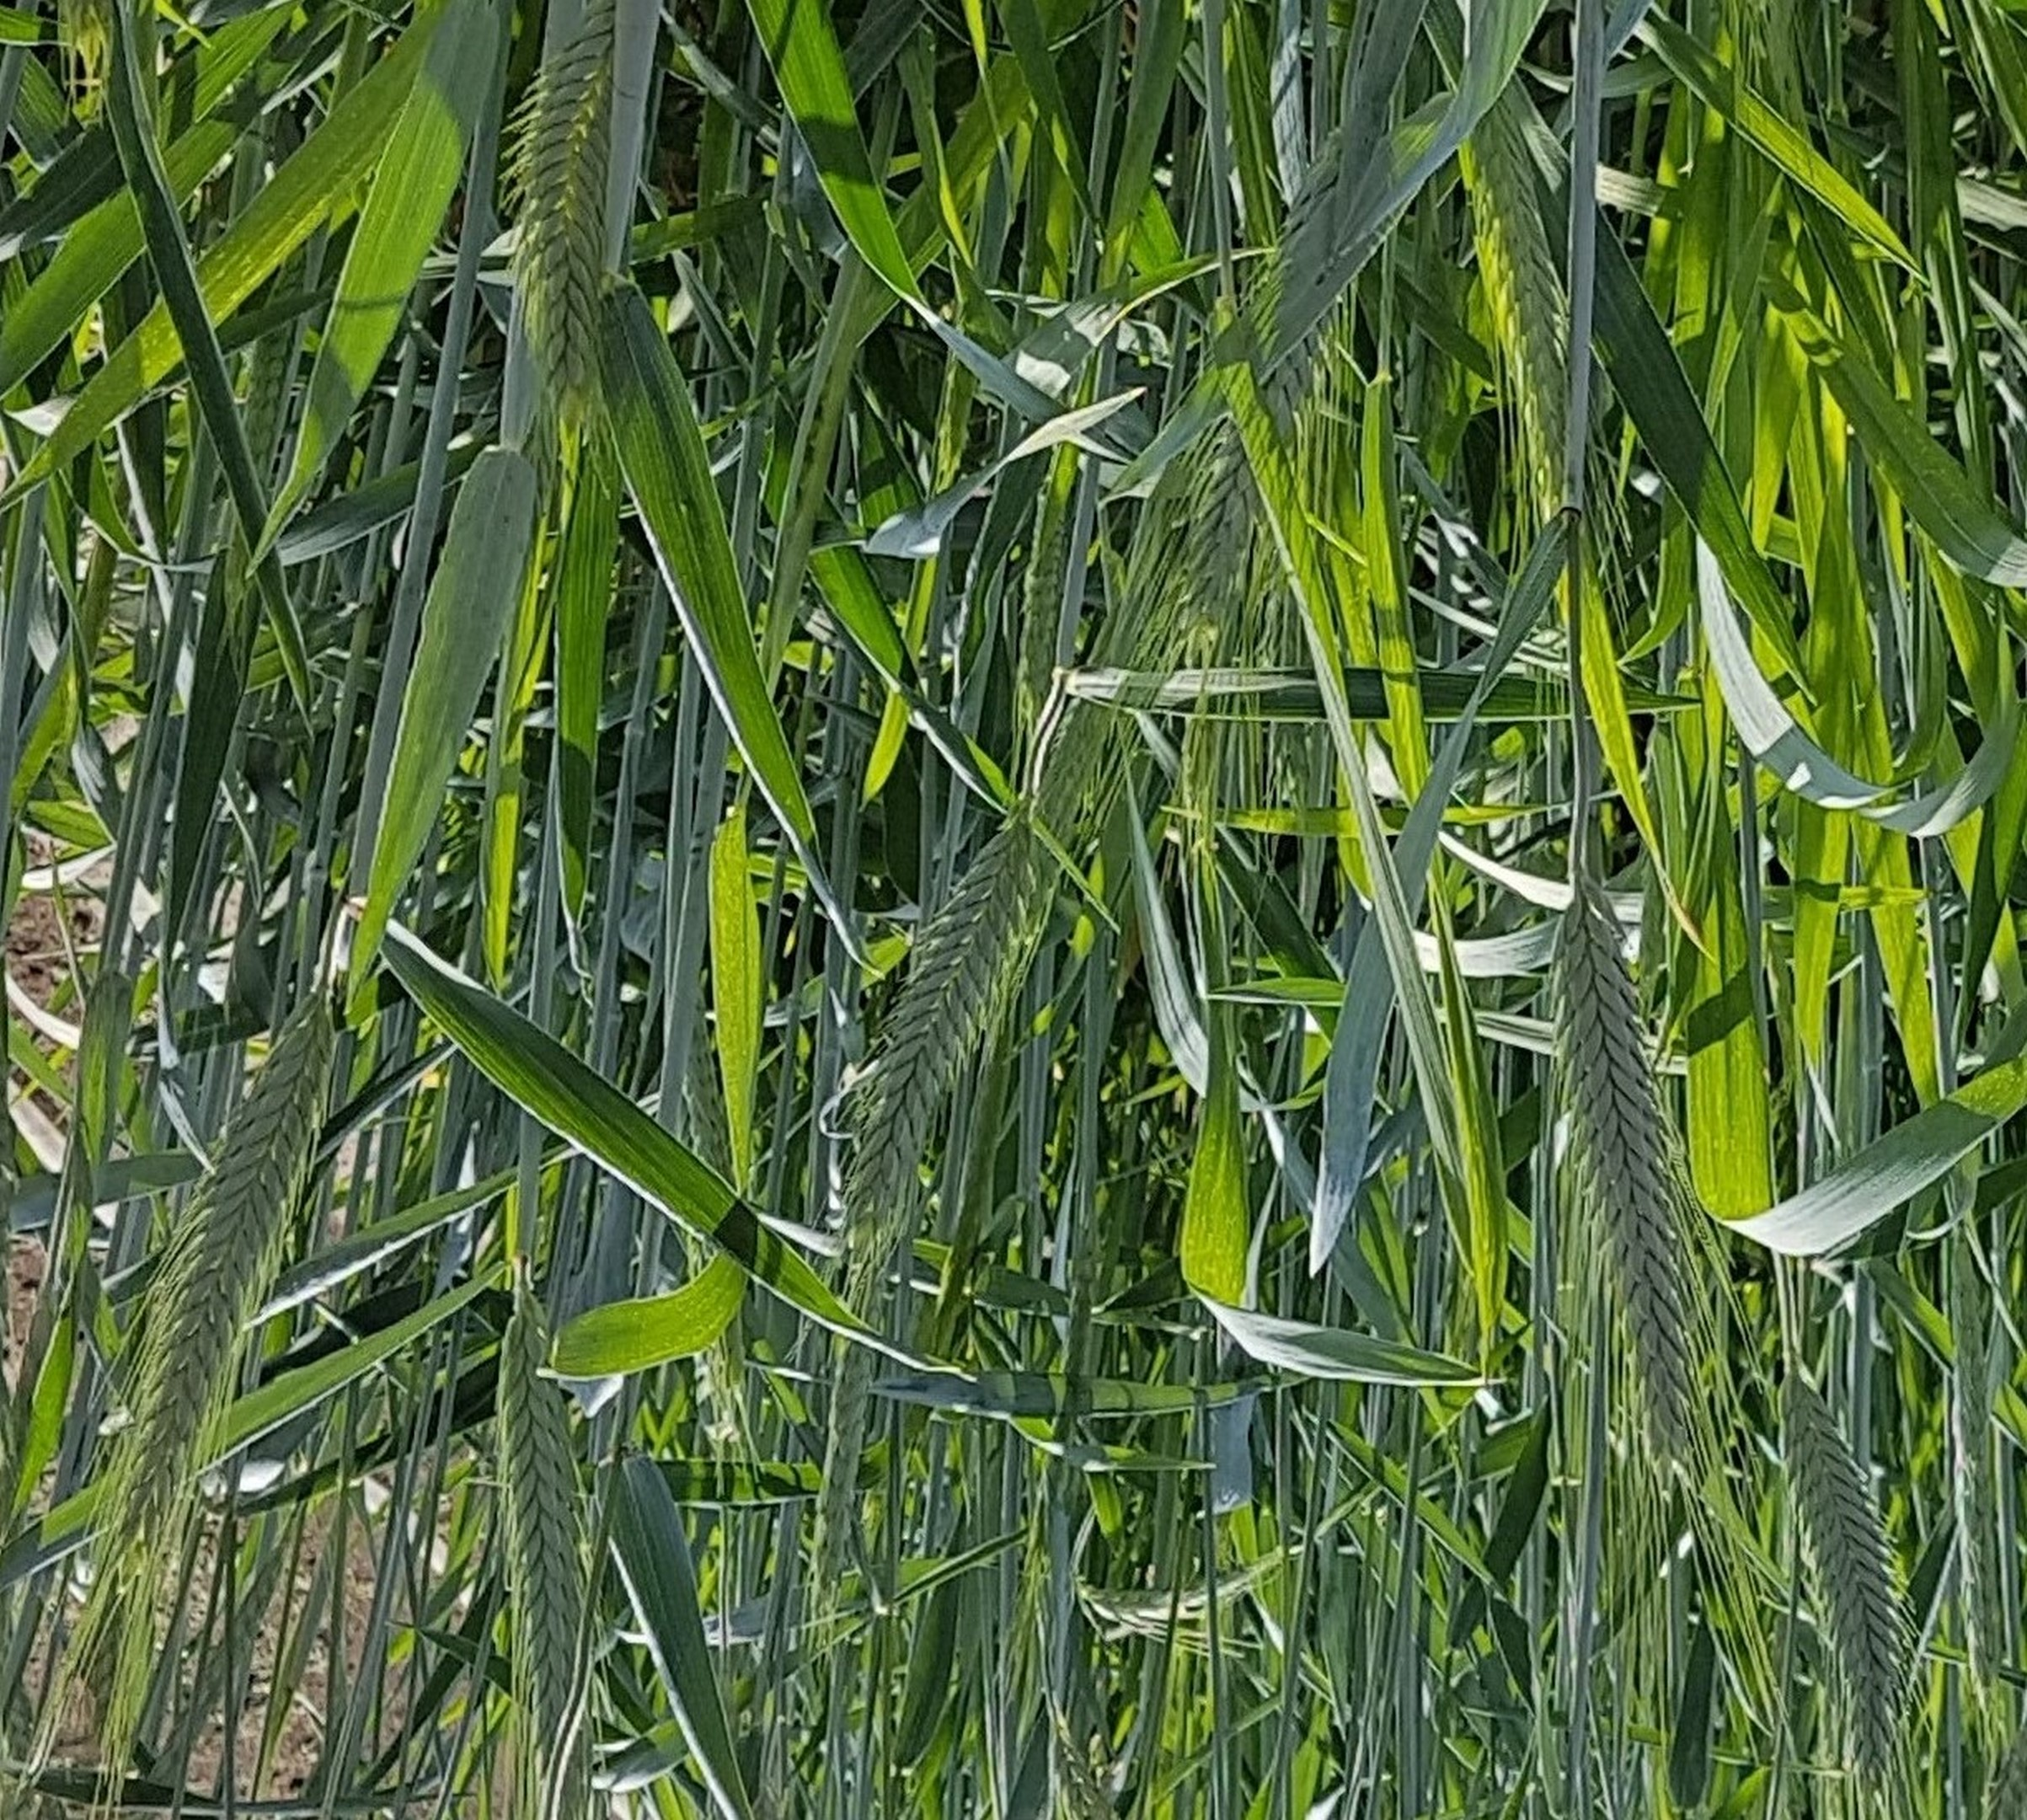Healthy Wheat: (86, 991, 343, 1579), (1533, 873, 1751, 1453), (834, 831, 1056, 1242), (464, 1267, 618, 1757), (1772, 1354, 1941, 1776)
